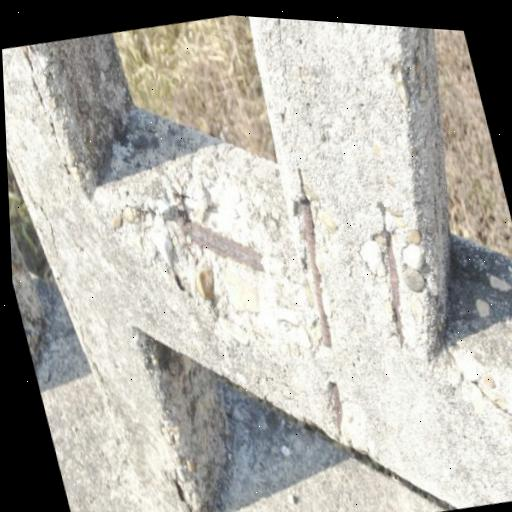exposed_rebar: (178, 215, 263, 270), (300, 198, 331, 348), (386, 233, 404, 343), (332, 382, 342, 425)
